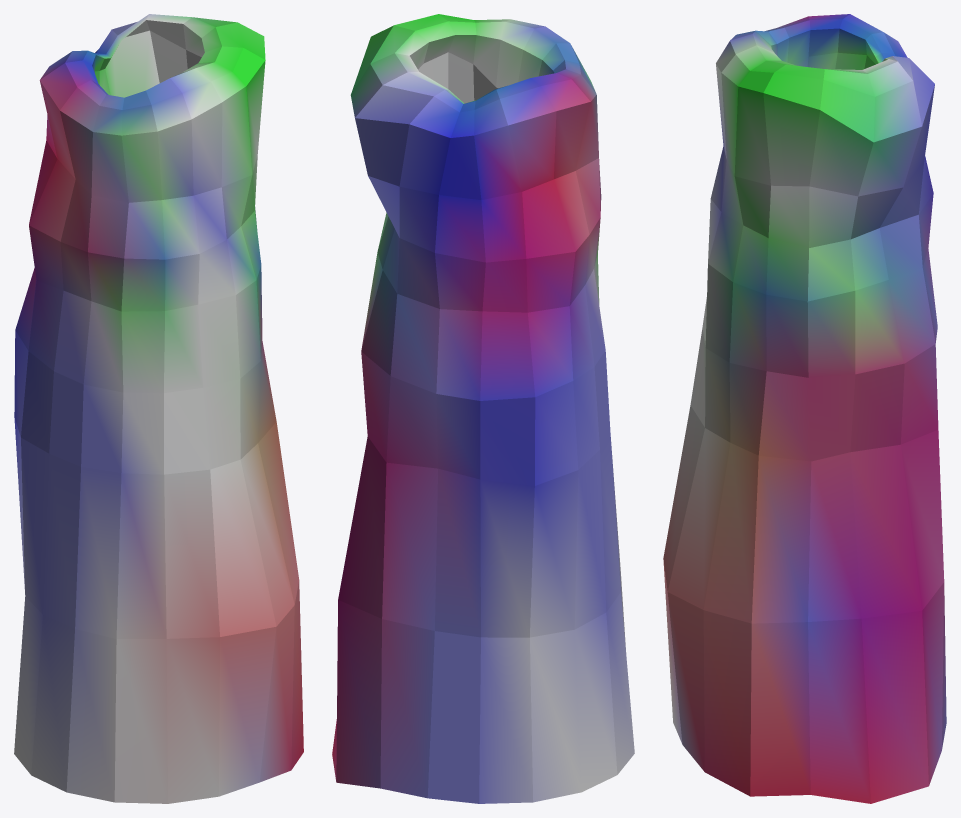
The model's file is pillar-vent-01.fbx.
3 renders of one model, left to right at view 1: azimuth 30°, elevation 25°; view 2: azimuth 150°, elevation 25°; view 3: azimuth 270°, elevation 25°, orthographic. The views are drawn at different scales.
Parts seen in each view (by area): view 1: pillar-vent-01; view 2: pillar-vent-01; view 3: pillar-vent-01.
Part boxes in pixels (bbox=[...]): pillar-vent-01: bbox=[14, 14, 303, 803]; pillar-vent-01: bbox=[332, 14, 634, 803]; pillar-vent-01: bbox=[663, 14, 946, 803].
Bounding box in the file's own units: 546 × 1481 × 538.
